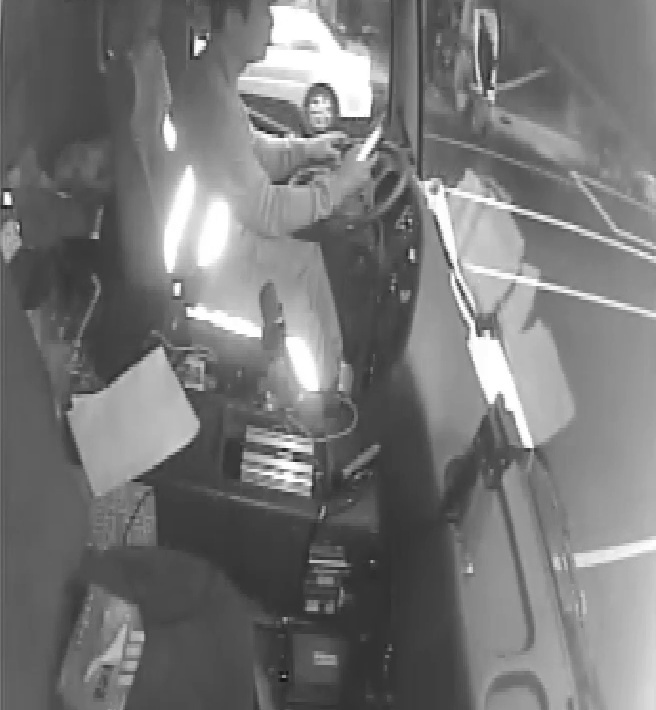cellphone: (351, 126, 384, 170)
